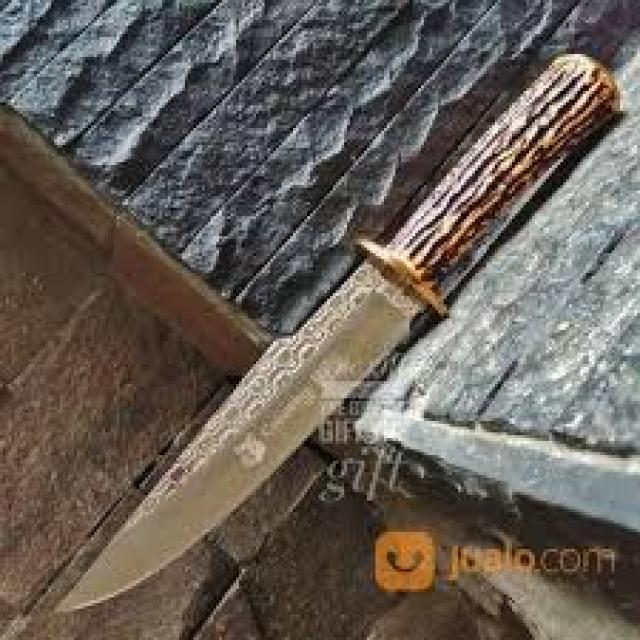Knife: (60, 54, 617, 612)
